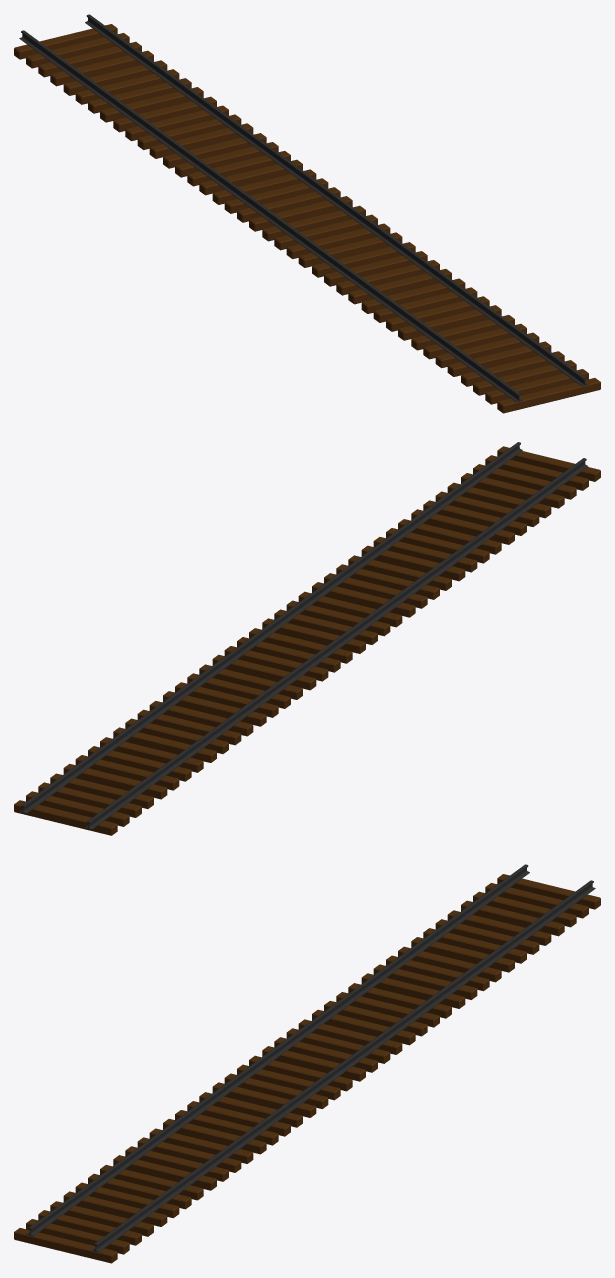
File: 10rails.gltf
The picture shows the model from 3 angles, top to bottom: view 1: azimuth 30°, elevation 25°; view 2: azimuth 150°, elevation 25°; view 3: azimuth 330°, elevation 25°; orthographic projection.
Visible parts, largest first — view 1: Track; view 2: Track; view 3: Track.
Boxes of the visible parts, left/top/right/bottom form: Track: left=14, top=14, right=600, bottom=413; Track: left=14, top=442, right=600, bottom=835; Track: left=14, top=864, right=600, bottom=1263.
Bounding box in the file's own units: 2.89 × 0.4456 × 25.23.
